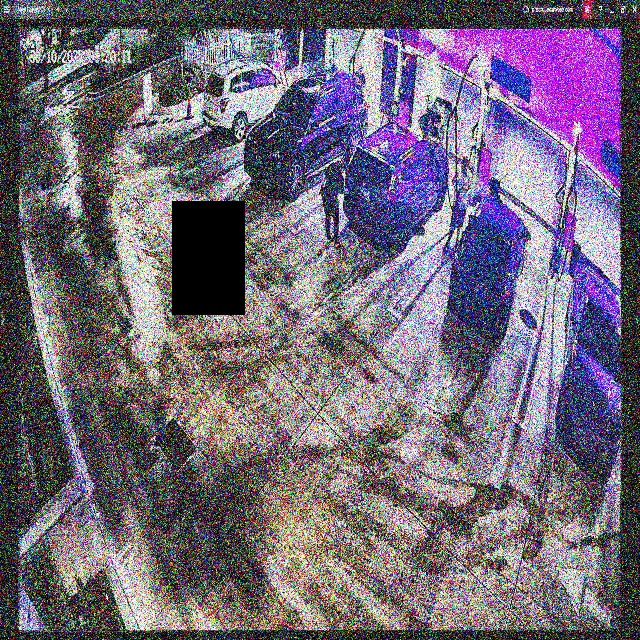Car: (244, 72, 367, 200), (342, 122, 447, 247), (452, 190, 528, 337)
